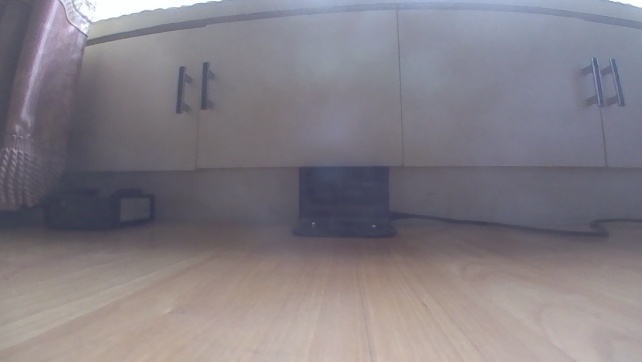charger: (290, 162, 398, 239)
wire: (386, 210, 641, 237)
